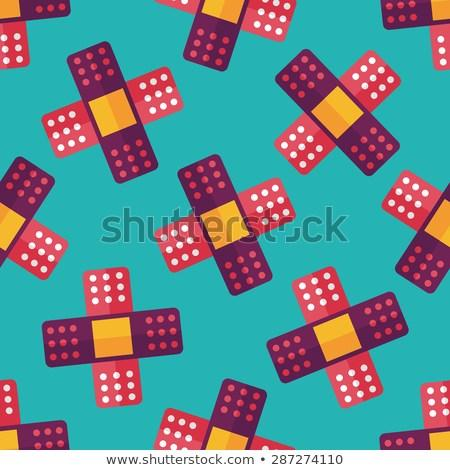bandage: (267, 264, 408, 409), (42, 42, 183, 184), (42, 267, 185, 407), (158, 153, 296, 298), (275, 46, 403, 178), (155, 0, 298, 72), (156, 380, 296, 449), (1, 155, 69, 291), (382, 166, 450, 296), (377, 0, 449, 75), (0, 373, 70, 450), (0, 0, 72, 73), (379, 382, 450, 450)
